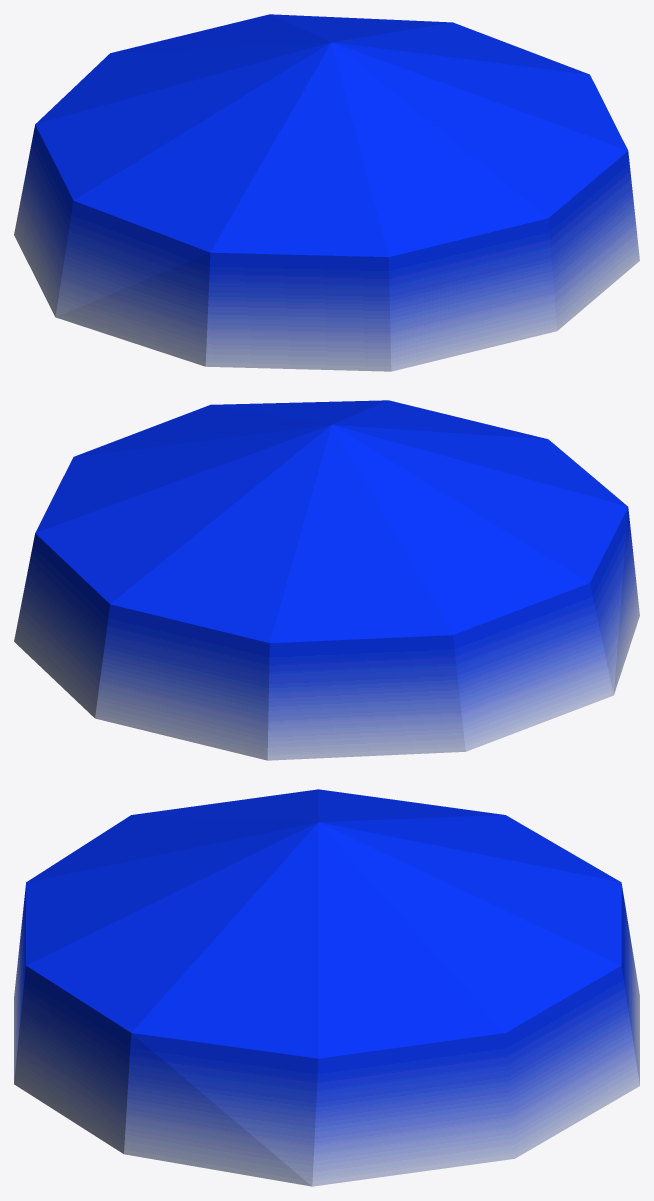
The model's file is old_momo_64-old_momo_64_V.glb.
3 views of the same model, one above another, from view 1: azimuth 30°, elevation 25°; view 2: azimuth 150°, elevation 25°; view 3: azimuth 270°, elevation 25° (orthographic). The views are drawn at different scales.
Visible parts, largest first — view 1: old_momo_64_V; view 2: old_momo_64_V; view 3: old_momo_64_V.
Boxes of the visible parts, x1,y1,x2,y2 form: old_momo_64_V: [14, 14, 639, 371]; old_momo_64_V: [14, 400, 639, 760]; old_momo_64_V: [14, 789, 639, 1186].
Bounding box in the file's own units: 690 × 242 × 627.
Materials: 2 (2 with a texture image).
